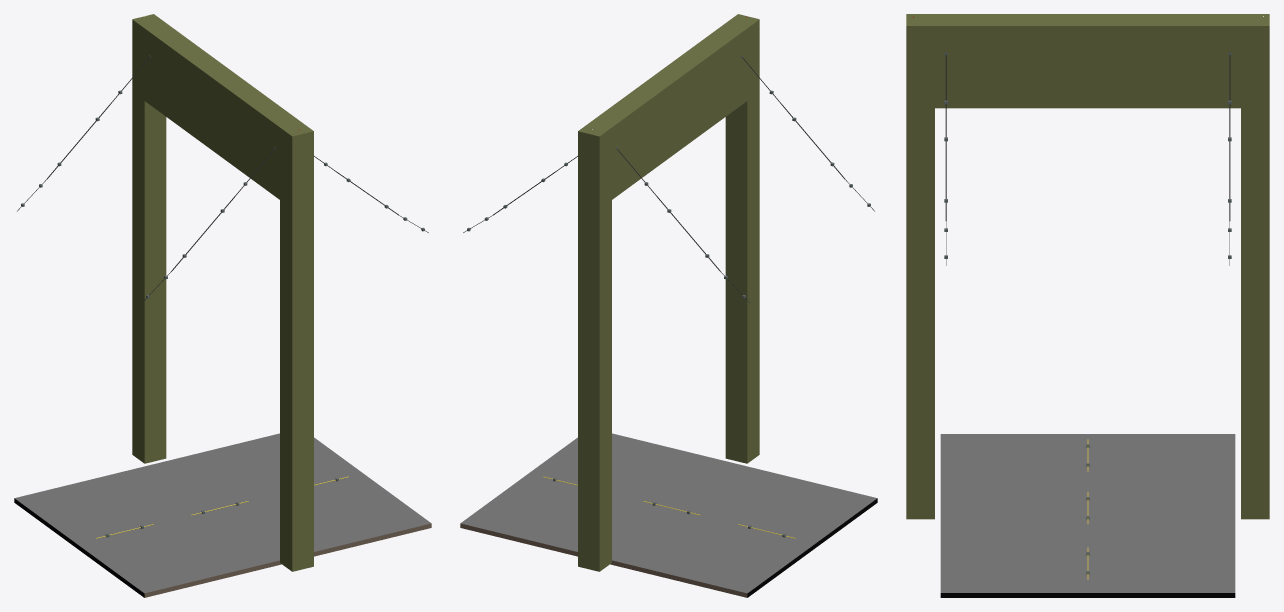
The picture shows the model from 3 angles, left to right: view 1: azimuth 30°, elevation 25°; view 2: azimuth 150°, elevation 25°; view 3: azimuth 270°, elevation 25°; orthographic projection. The views are drawn at different scales.
Parts seen in each view (by area): view 1: BR83F | archived geometry, BR83F | line, light and sprite surfaces; view 2: BR83F | archived geometry, BR83F | line, light and sprite surfaces; view 3: BR83F | archived geometry, BR83F | line, light and sprite surfaces.
Part boxes in pixels (x1,y1,x2,y2): BR83F | archived geometry: (14,14,431,597); BR83F | line, light and sprite surfaces: (17,16,428,538); BR83F | archived geometry: (460,14,877,597); BR83F | line, light and sprite surfaces: (463,17,874,538); BR83F | archived geometry: (906,14,1269,597); BR83F | line, light and sprite surfaces: (913,16,1263,579).
Bounding box in the file's own units: 16.57 × 24.42 × 16.
